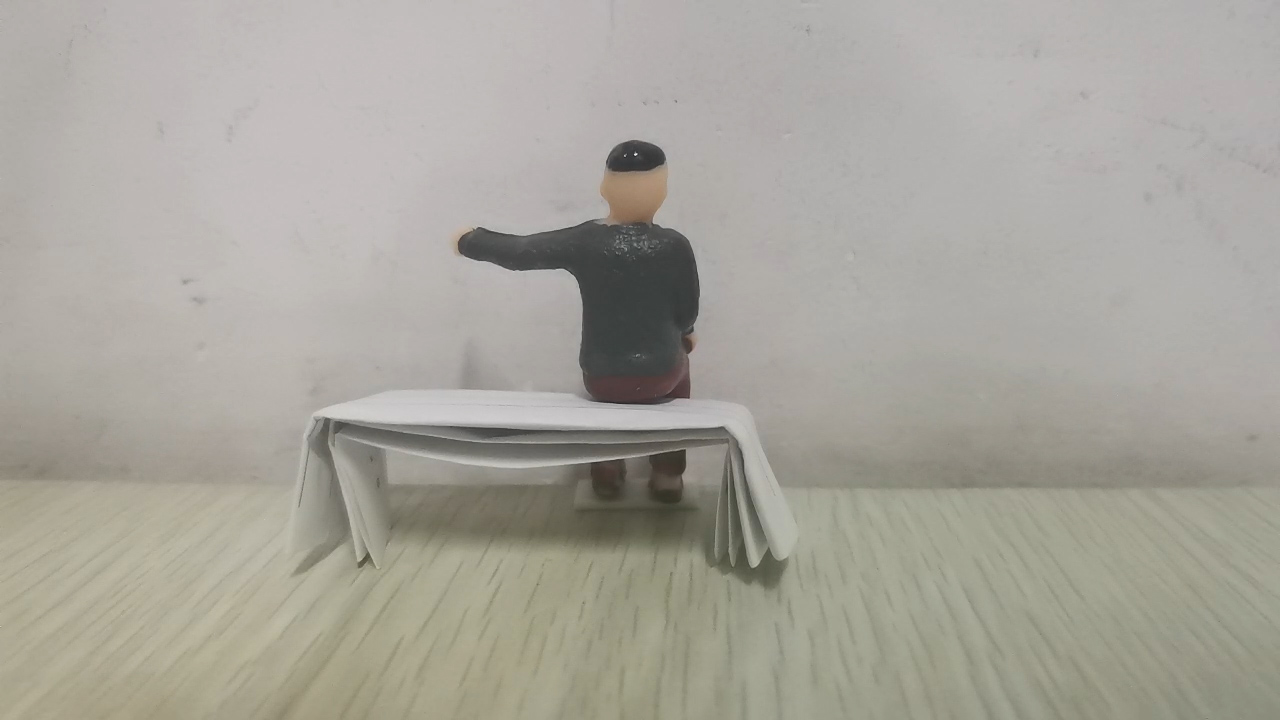person: (446, 138, 702, 506)
